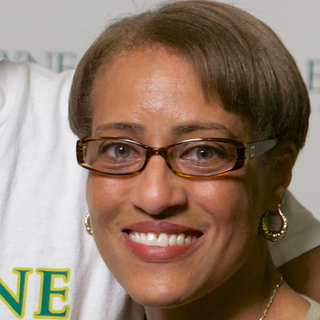eye: (178, 140, 225, 169), (98, 138, 143, 165)
